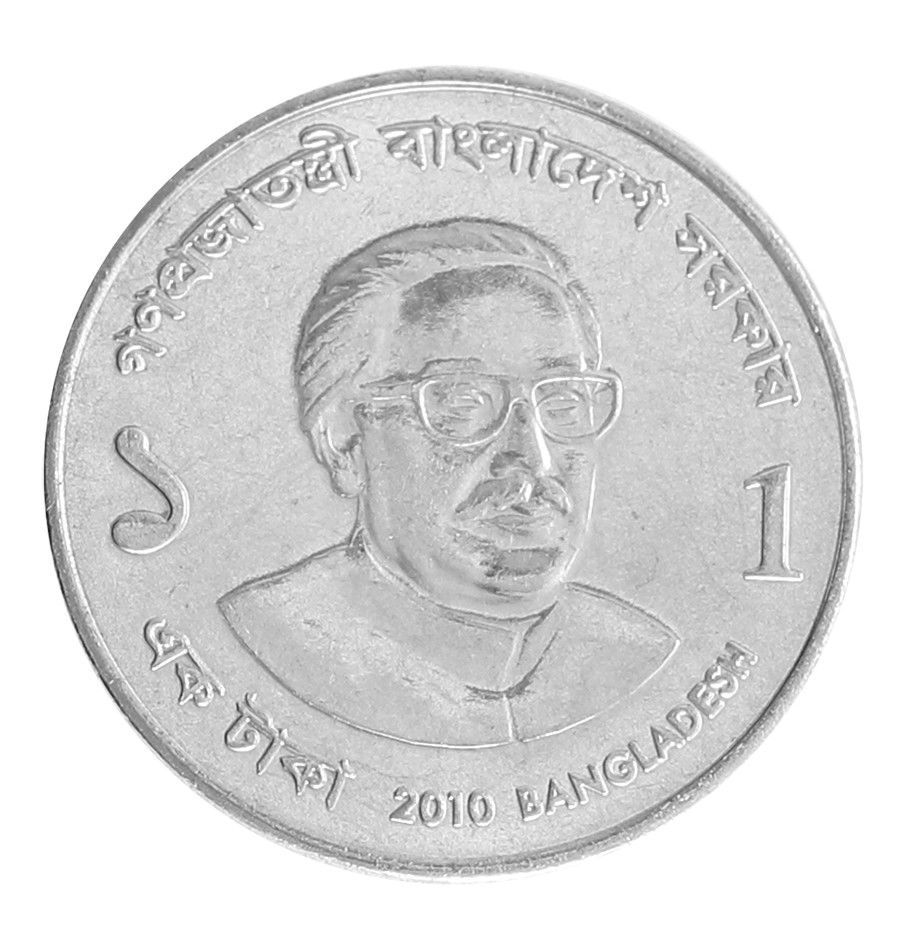2 taka coin: (40, 66, 857, 879)
